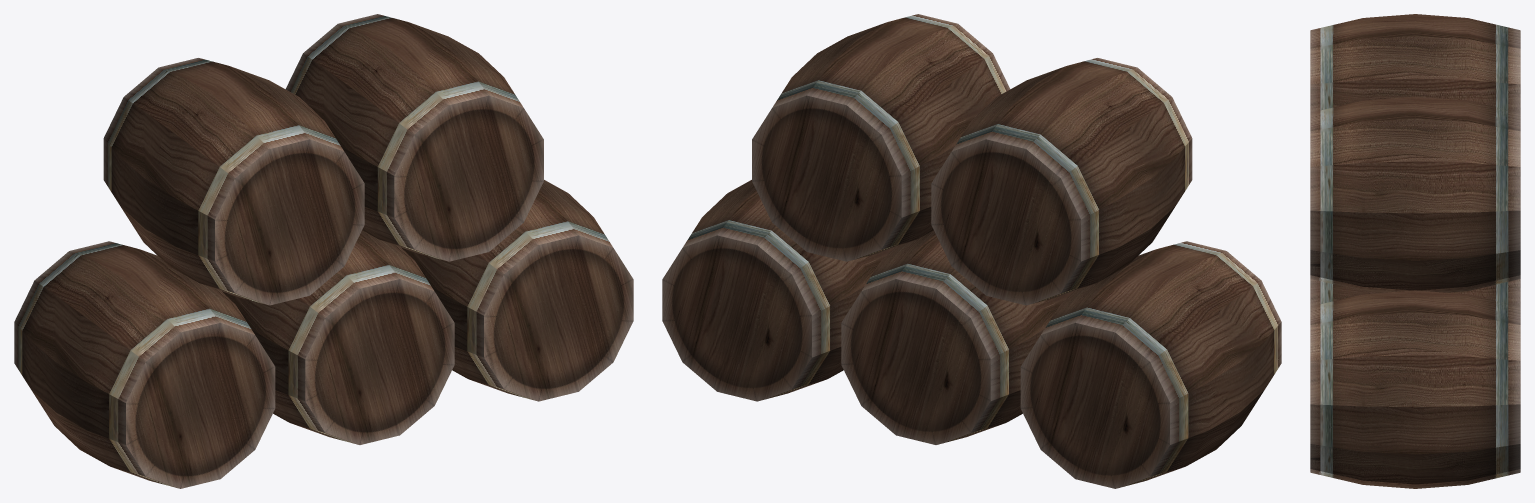
File: keg_1.fbx
3 views of the same model, side by side, from view 1: azimuth 30°, elevation 25°; view 2: azimuth 150°, elevation 25°; view 3: azimuth 270°, elevation 25° (orthographic). The views are drawn at different scales.
Parts seen in each view (by area): view 1: pCylinder5, pCylinder3, pCylinder4, pCylinder2, pCylinder1; view 2: pCylinder5, pCylinder3, pCylinder4, pCylinder2, pCylinder1; view 3: pCylinder2, pCylinder4, pCylinder5, pCylinder1.
Part boxes in pixels (box(x1,y1,x2,y2)): pCylinder5: box(103, 58, 364, 305); pCylinder3: box(14, 241, 275, 488); pCylinder4: box(285, 14, 543, 261); pCylinder2: box(401, 180, 633, 401); pCylinder1: box(222, 230, 454, 444); pCylinder5: box(931, 58, 1192, 305); pCylinder3: box(1020, 241, 1281, 488); pCylinder4: box(752, 14, 1010, 261); pCylinder2: box(662, 180, 894, 401); pCylinder1: box(841, 230, 1073, 444); pCylinder2: box(1310, 290, 1520, 488); pCylinder4: box(1310, 96, 1520, 292); pCylinder5: box(1310, 14, 1520, 112); pCylinder1: box(1310, 279, 1520, 306).
Size of the model in its own units: 5.57 by 3.46 by 2.
